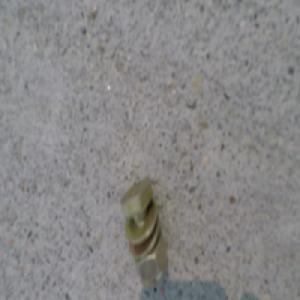BoltNutSet: (121, 177, 168, 280)
